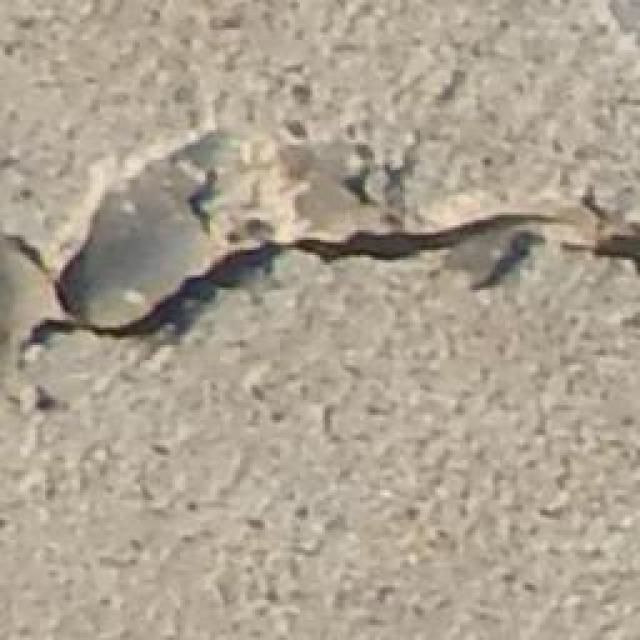concrete-crack: (1, 209, 640, 370)
